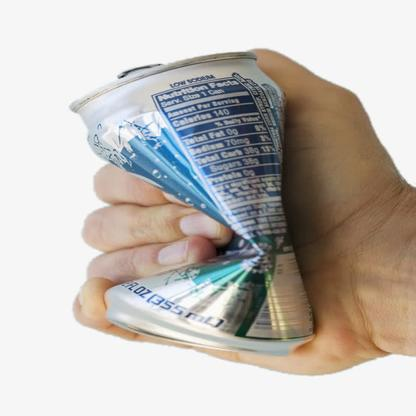can: (69, 45, 320, 354)
